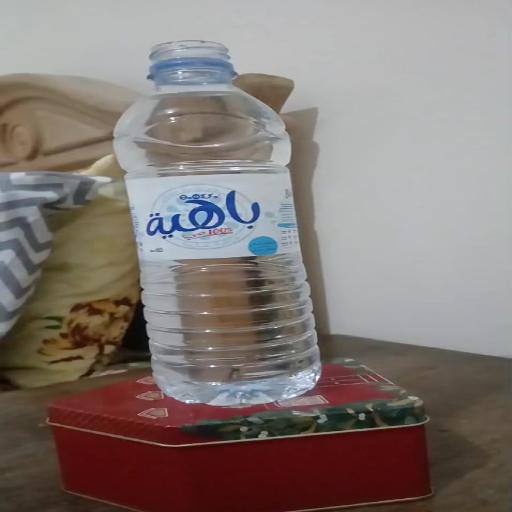bouteille non conformite: (100, 32, 325, 404)
